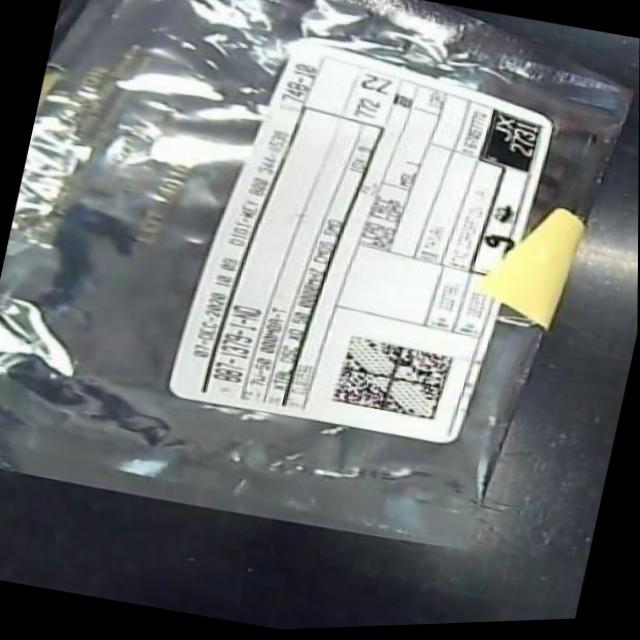datamatrix: (329, 331, 459, 430)
